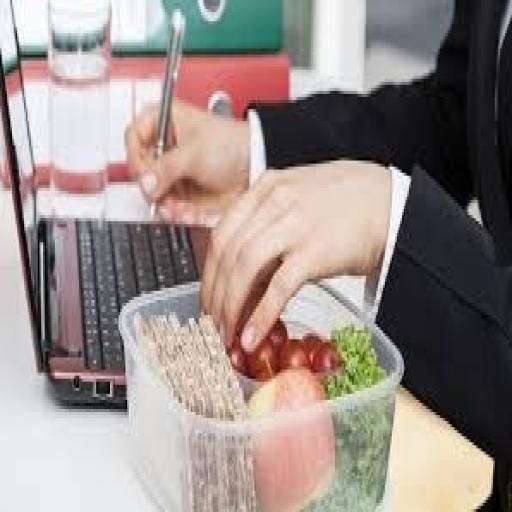eating: (122, 0, 510, 509)
